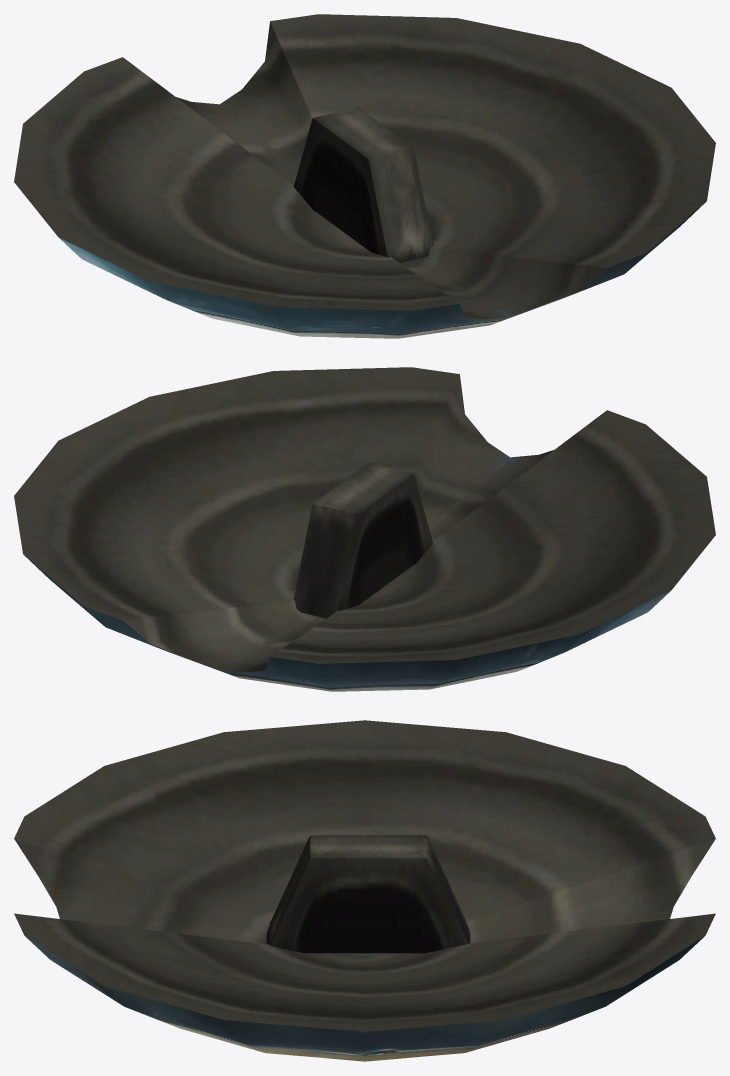
3 renders of one model, top to bottom at view 1: azimuth 30°, elevation 25°; view 2: azimuth 150°, elevation 25°; view 3: azimuth 270°, elevation 25°, orthographic. The views are drawn at different scales.
Parts seen in each view (by area): view 1: i100004_obj; view 2: i100004_obj; view 3: i100004_obj.
Part boxes in pixels (<box>): i100004_obj: <box>14,14,715,338</box>; i100004_obj: <box>14,367,715,691</box>; i100004_obj: <box>14,720,715,1061</box>.
Bounding box in the file's own units: 38.2 × 10.09 × 36.38.
Materials: 1 (1 with a texture image).
